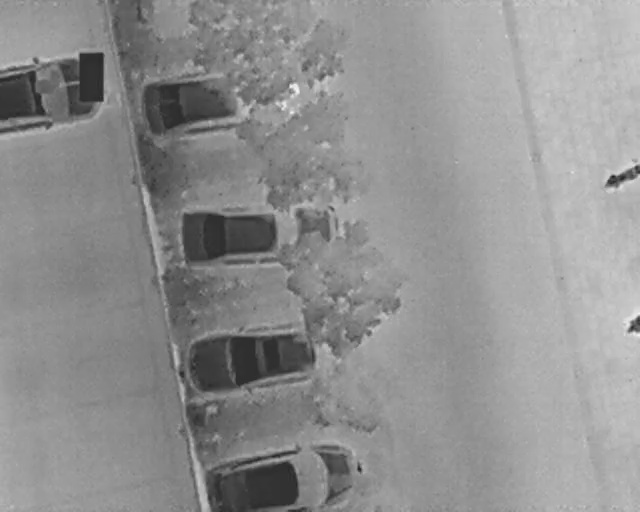Bicycle: (601, 162, 639, 191), (625, 315, 639, 335)
Car: (182, 312, 350, 402), (175, 194, 349, 272), (135, 59, 288, 141), (202, 442, 364, 510), (0, 52, 104, 138)
